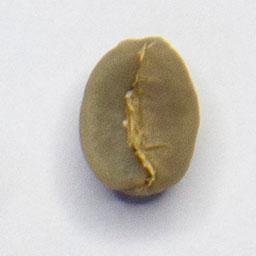premium: (74, 32, 205, 200)
